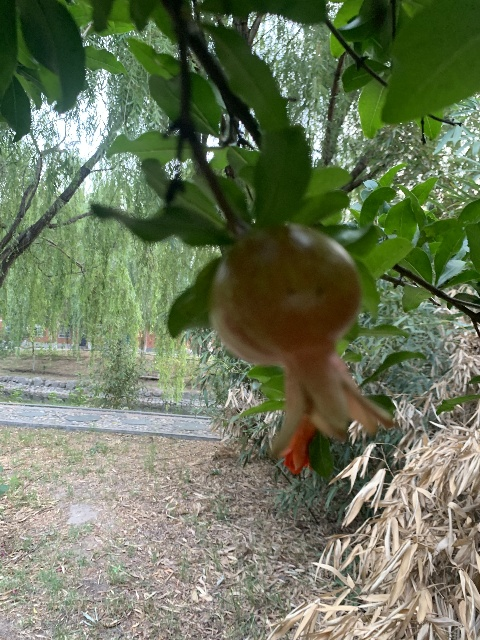early-fruit: (209, 223, 396, 474)
